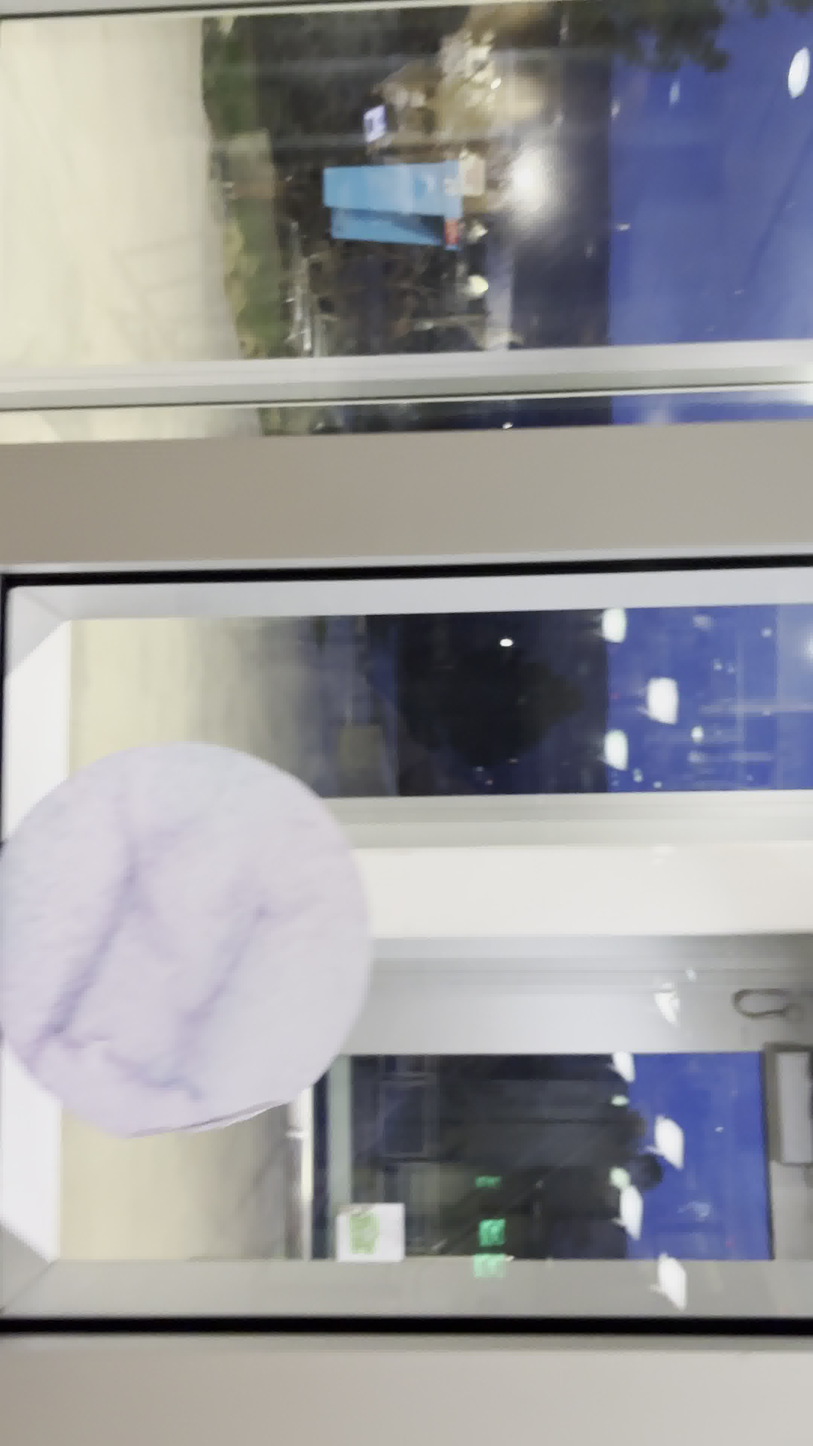Target: (0, 729, 381, 1147)
